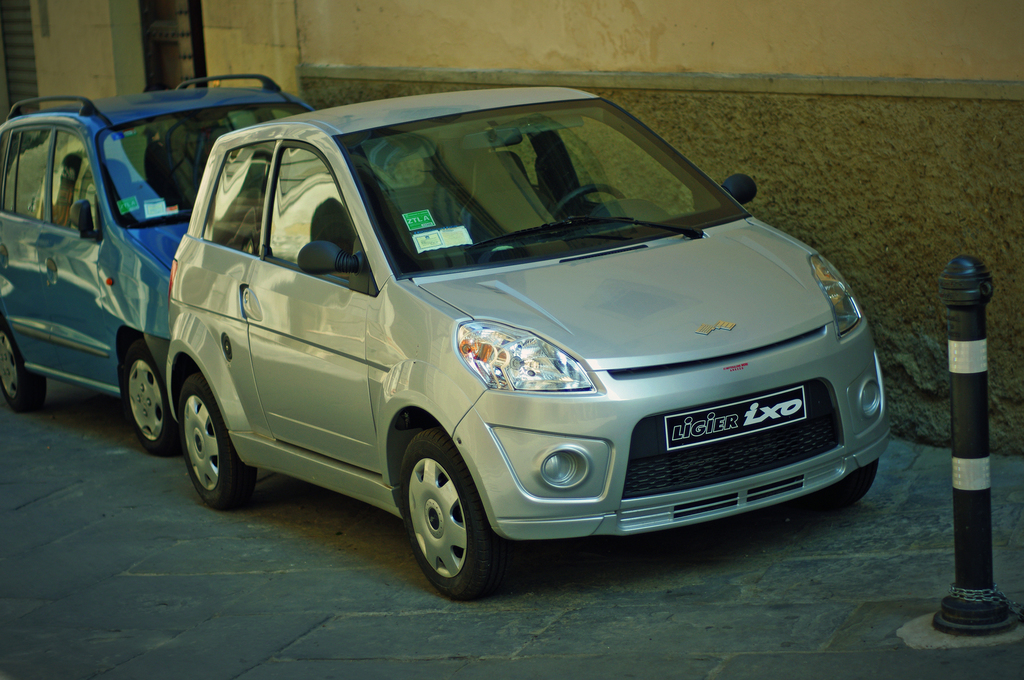cars: (106, 94, 900, 598), (0, 65, 382, 451)
